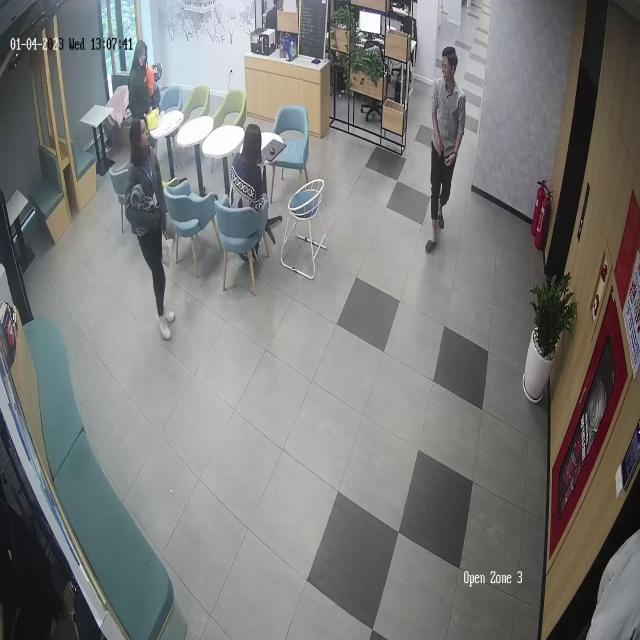person: (124, 118, 176, 342), (428, 44, 466, 250), (228, 122, 277, 259), (128, 40, 162, 122)
